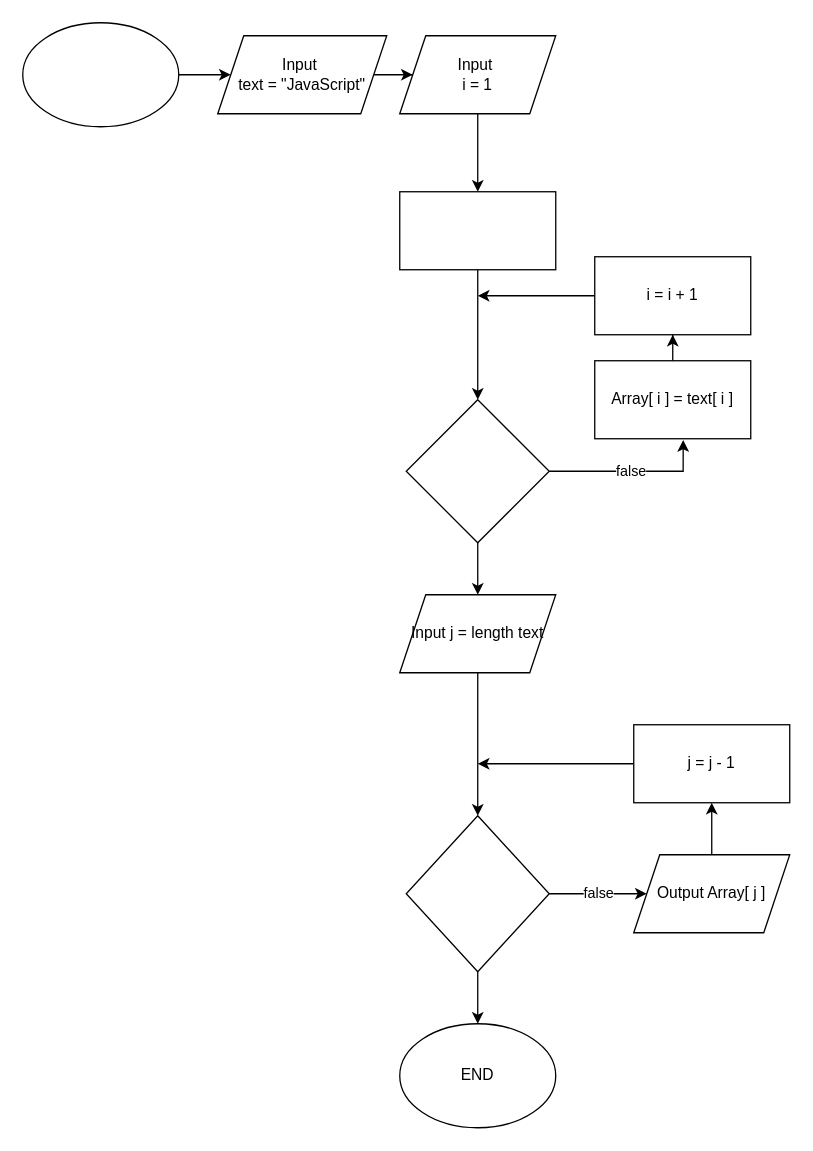
Some shapes in this 813 by 1151 pixel diagram are drawn without their labels. Each missing label, with the centre of its shape:
Hitung length text: [477,230]
Jika i >= length text: [477,470]
Jika j == 1: [477,893]
START: [100,74]
